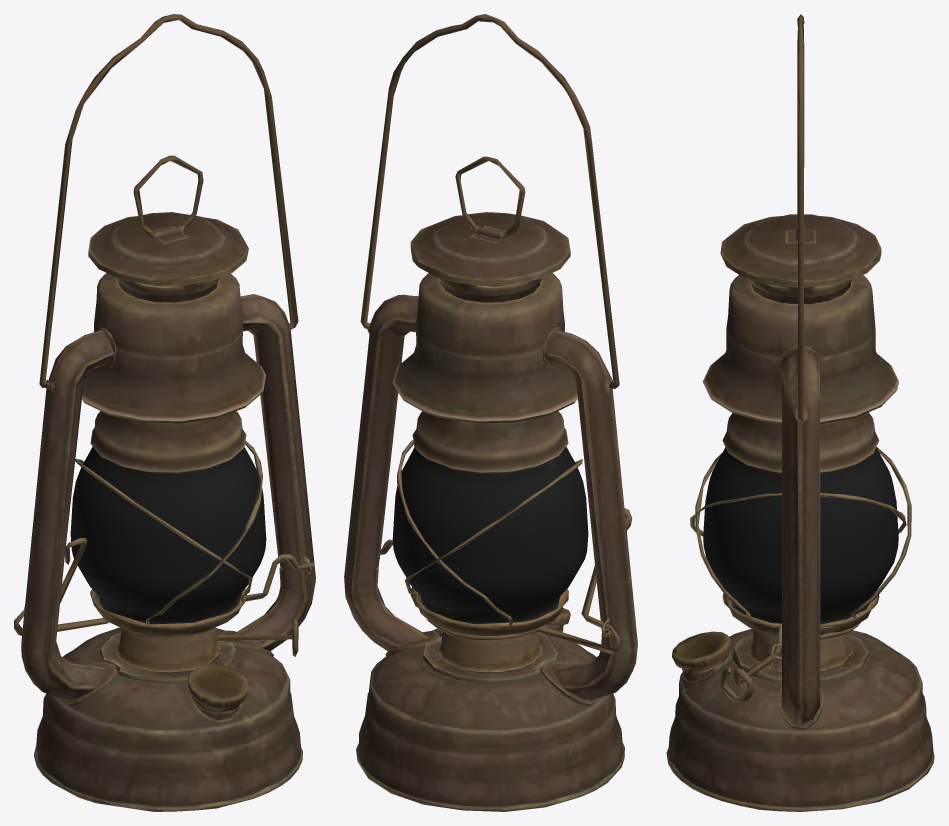
Rendered from lantern.glb.
3 views of the same model, side by side, from view 1: azimuth 30°, elevation 25°; view 2: azimuth 150°, elevation 25°; view 3: azimuth 270°, elevation 25° (orthographic).
Visible parts, largest first — view 1: Lantern_01, Lantern_01_glass; view 2: Lantern_01, Lantern_01_glass; view 3: Lantern_01, Lantern_01_glass.
Part boxes in pixels (left/top/right/bottom): Lantern_01: left=14, top=14, right=315, bottom=811; Lantern_01_glass: left=70, top=446, right=266, bottom=624; Lantern_01: left=344, top=14, right=637, bottom=811; Lantern_01_glass: left=392, top=446, right=588, bottom=623; Lantern_01: left=666, top=14, right=934, bottom=811; Lantern_01_glass: left=703, top=447, right=898, bottom=624.
Size of the model in its own units: 0.1219 by 0.2939 by 0.0967.
Materials: 2 (2 with a texture image).
